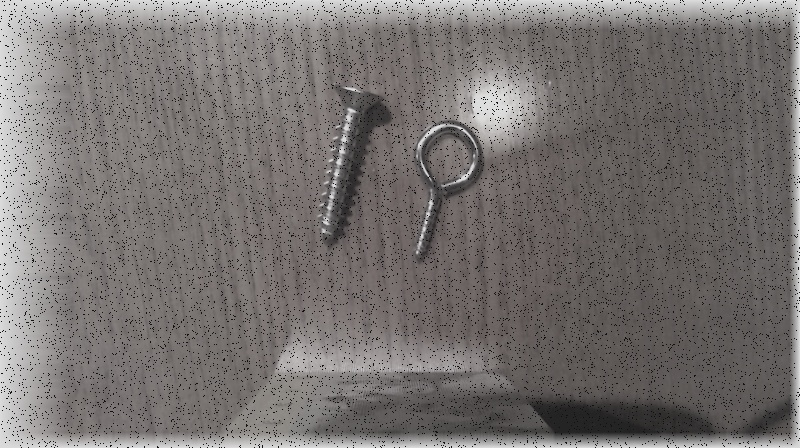O001: (404, 118, 488, 265)
S001: (313, 80, 386, 251)
